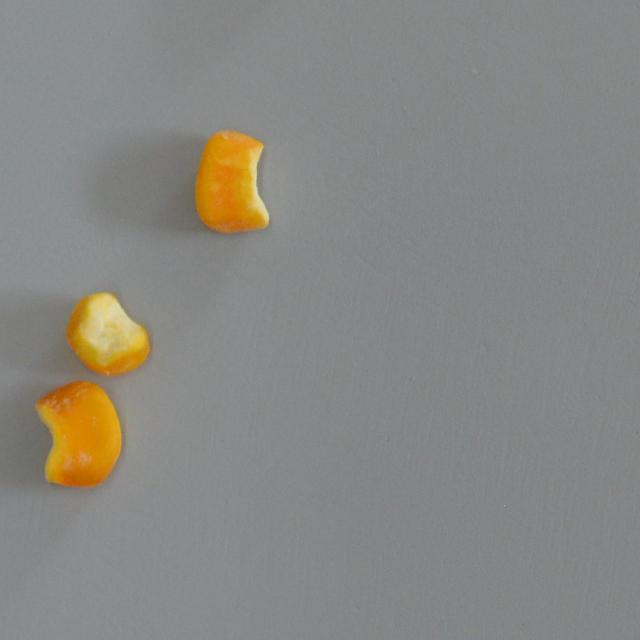pelicula: (34, 380, 122, 487), (192, 129, 270, 234), (65, 291, 150, 376)
